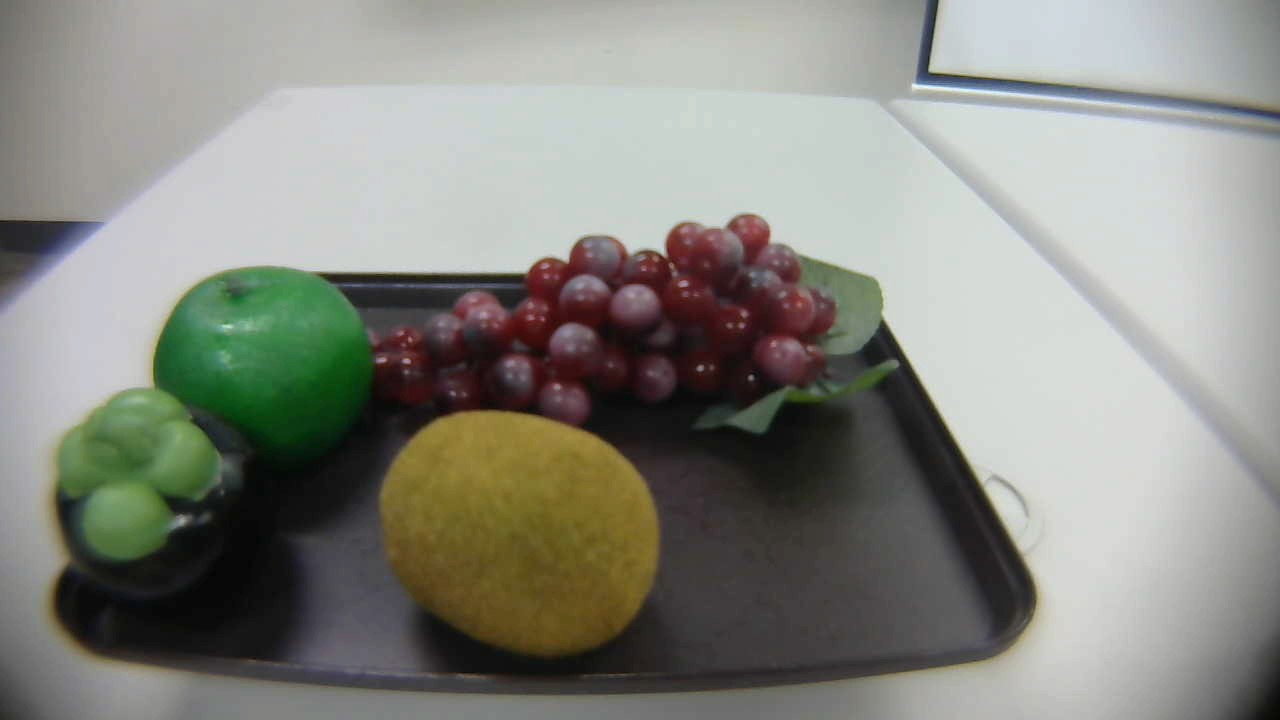grape: (367, 208, 908, 469)
green orange: (142, 259, 380, 483)
kiwi fruit: (362, 398, 663, 654)
mangosteen: (43, 386, 273, 609)
